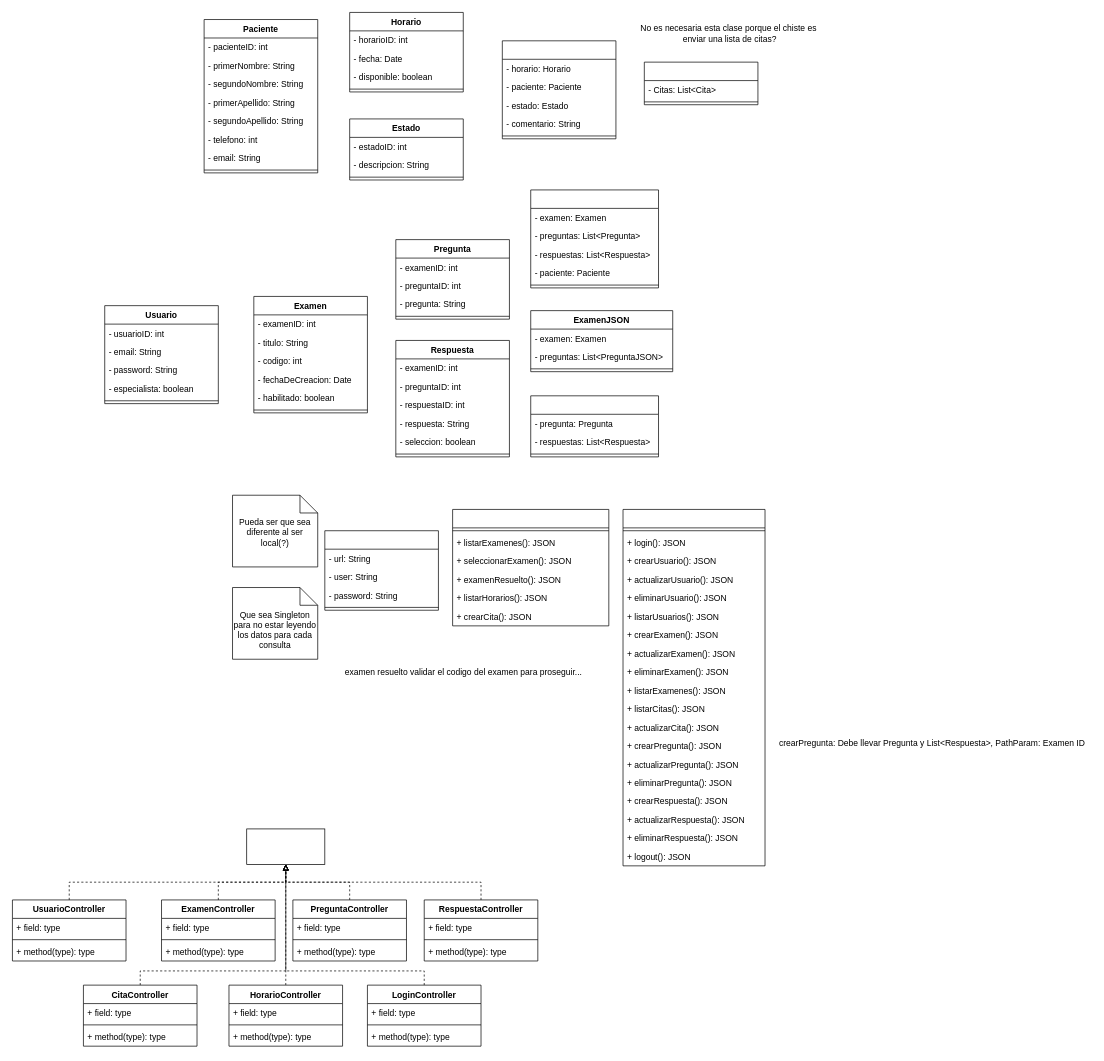
Image size: 1104x1061. Some labels were removed from this diagram. Here are the shapes that lost their labels. From the top down, the box of each, then its label:
(502, 40, 616, 139): Cita
(644, 61, 758, 105): CitaJSON
(530, 189, 659, 288): ExamenResuelto
(530, 395, 659, 457): PreguntaJSON
(324, 530, 438, 610): EasyCRUD
(452, 509, 609, 626): ResourcesWithoutJWT
(622, 509, 765, 866): ResourcesWithJWT
(246, 828, 325, 864): «interface» CRUD
